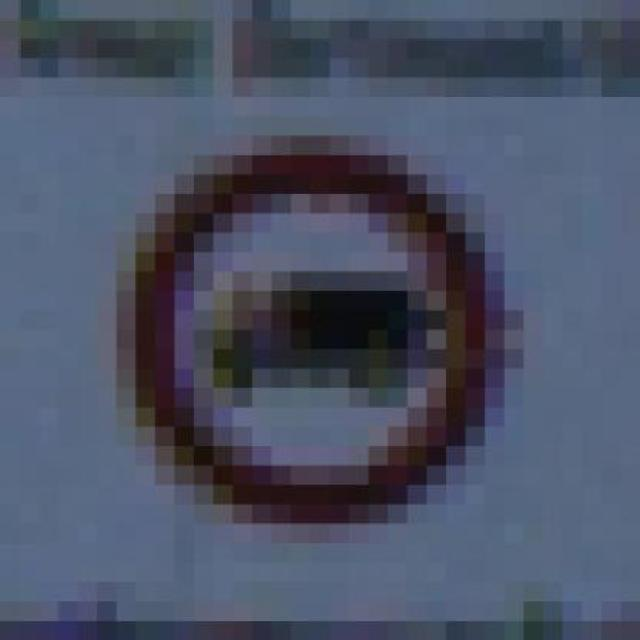Truck traffic is prohibited: (96, 97, 524, 543)
